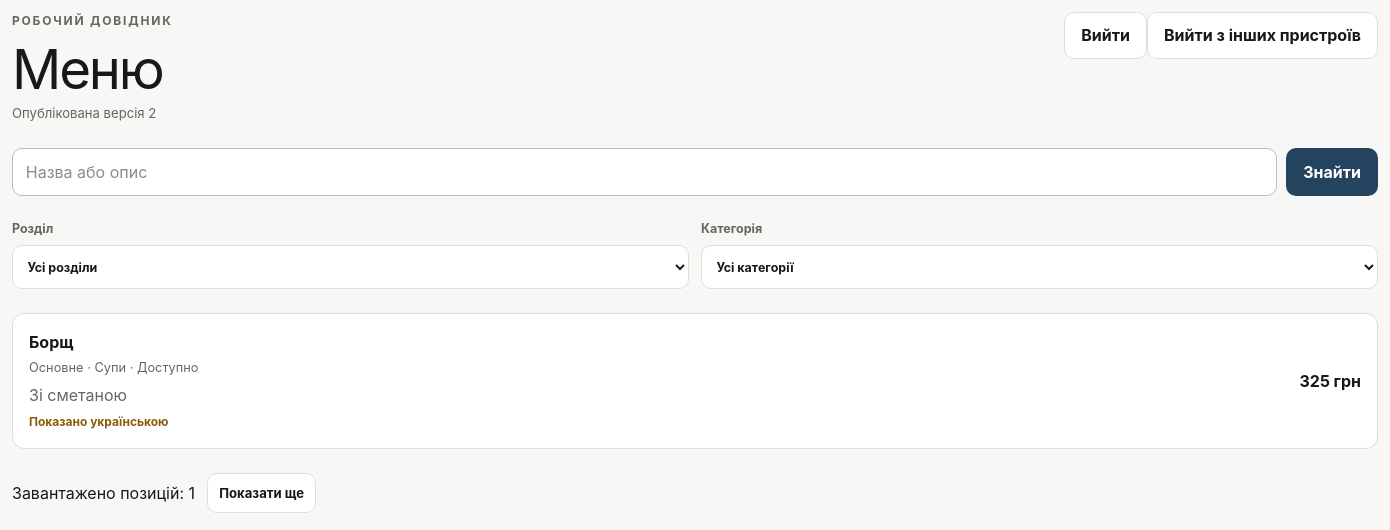
Test: Employee published Menu › discards a late page when search changes and resets the cursor
Expected: the text "Борщ" is shown, [29,332,74,352]
Click the button "Показати ще": [262, 494] box [207,474,316,514]
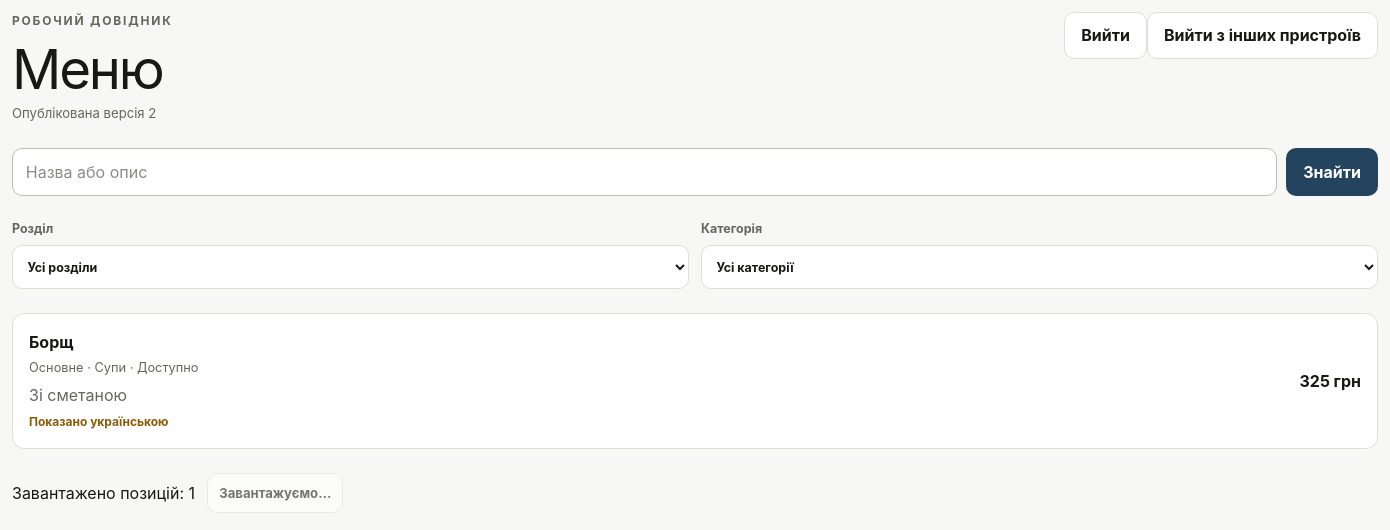
In the search field named "Пошук у меню": [644, 172] box [12,148,1277,196], type "нове"
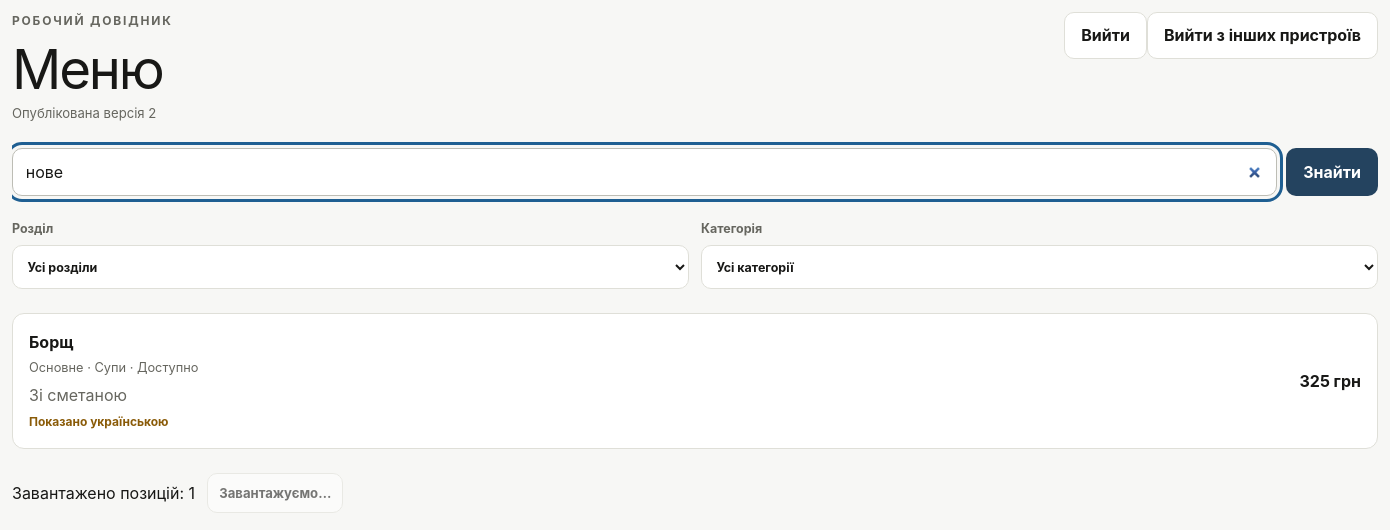
Click the button "Знайти": [1332, 172] box [1286,148,1378,196]
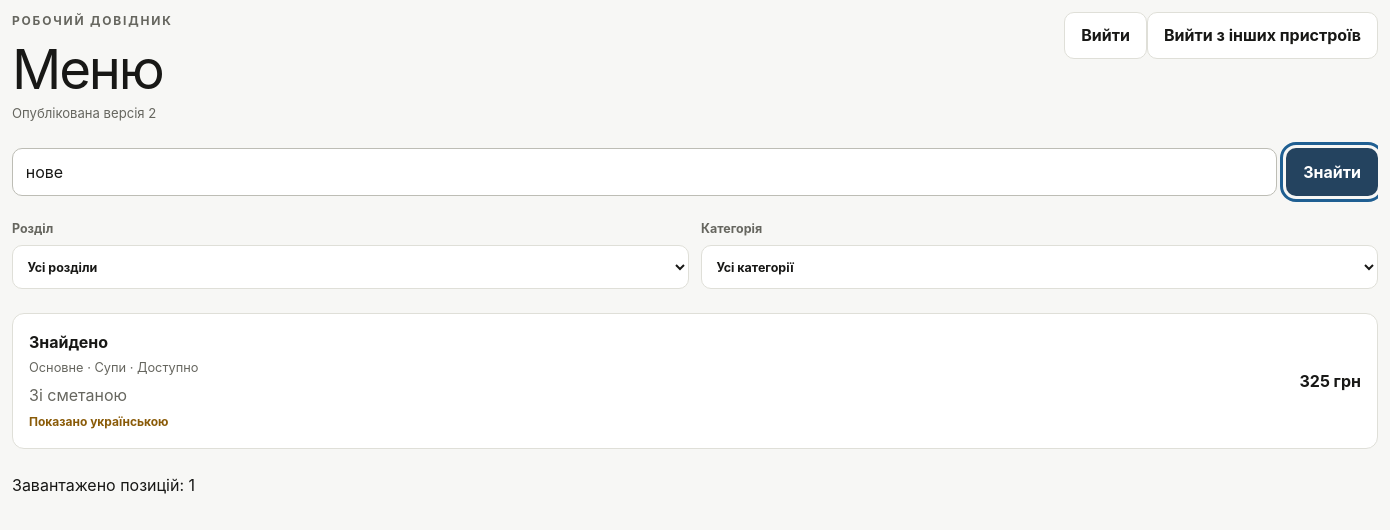
Expected: the text "Знайдено" is shown, [29,332,108,352]
Expected: the button "Борщ" is gone
